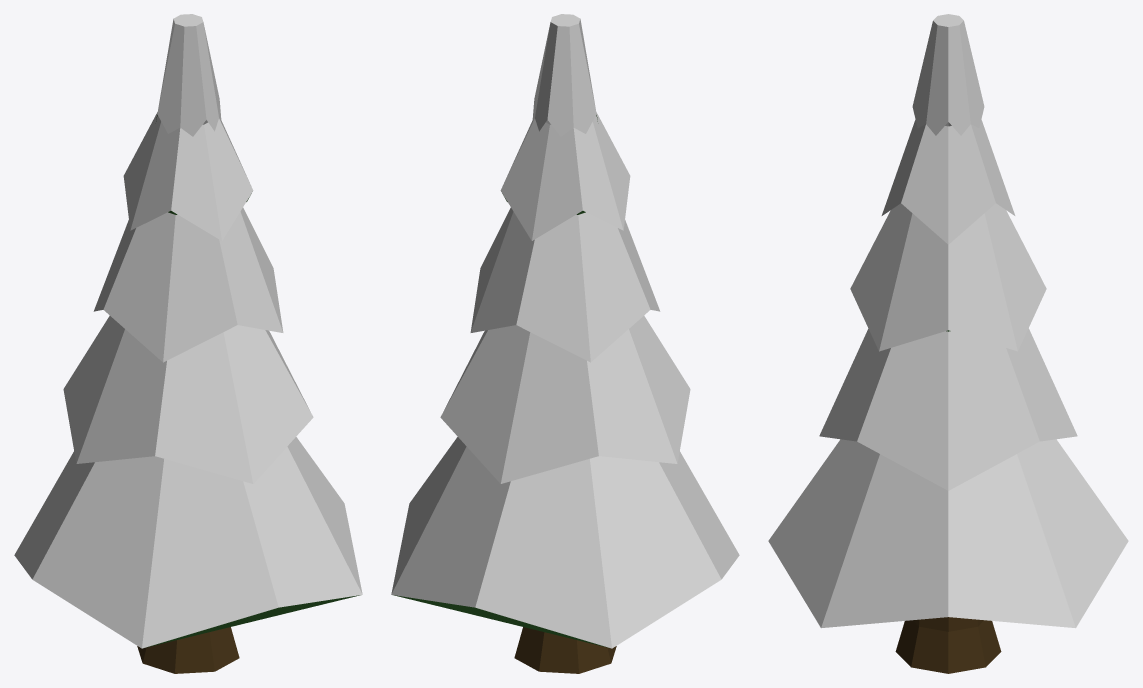
File: pine.glb
The picture shows the model from 3 angles, left to right: view 1: azimuth 30°, elevation 25°; view 2: azimuth 150°, elevation 25°; view 3: azimuth 270°, elevation 25°; orthographic projection.
Visible parts, largest first — view 1: Cylinder; view 2: Cylinder; view 3: Cylinder.
Boxes of the visible parts, x1,y1,x2,y2 form: Cylinder: (14,14,362,673); Cylinder: (391,14,739,673); Cylinder: (768,14,1128,673).
Bounding box in the file's own units: 4.28 × 8.28 × 4.28.
